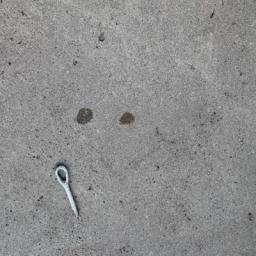FOD: (52, 164, 88, 221)
